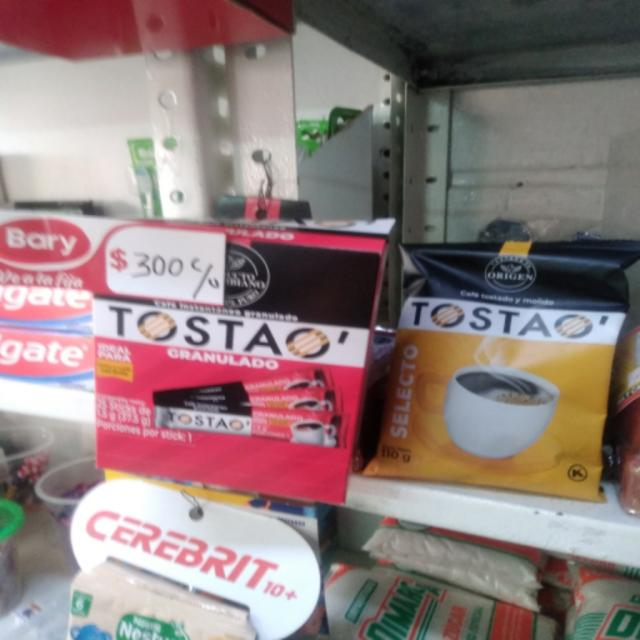Cafe_tostado: (362, 245, 640, 512)
Precio: (104, 231, 233, 312)
